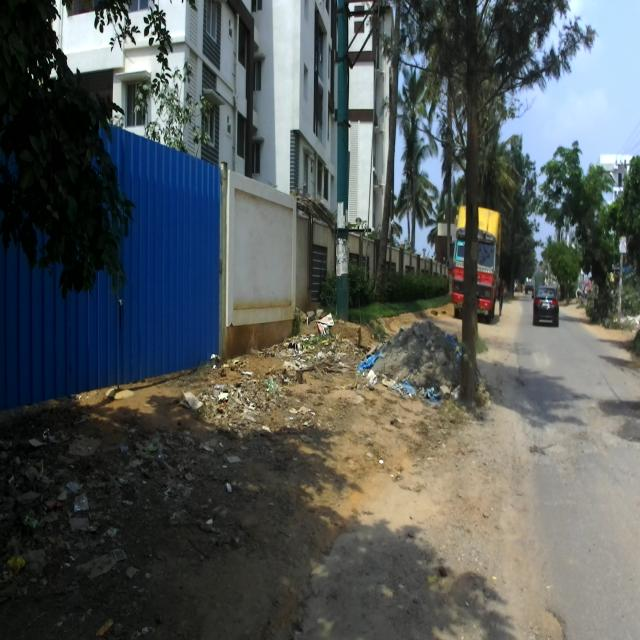tree ahead at: (408, 0, 525, 423)
